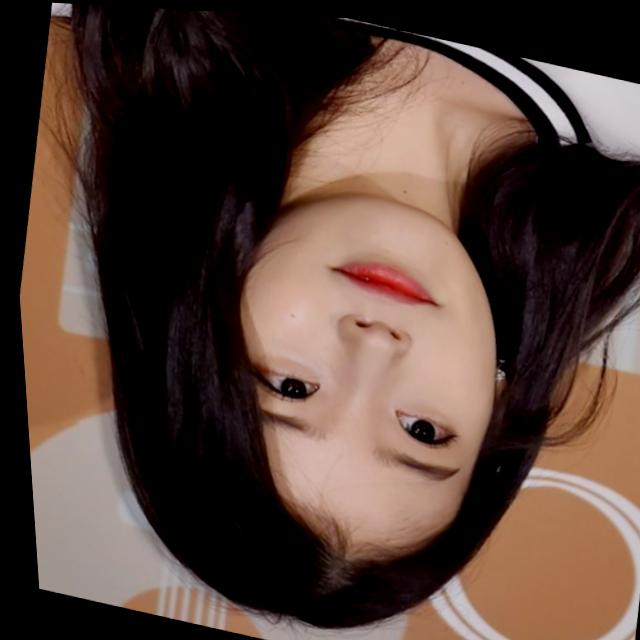face: (195, 164, 530, 573)
